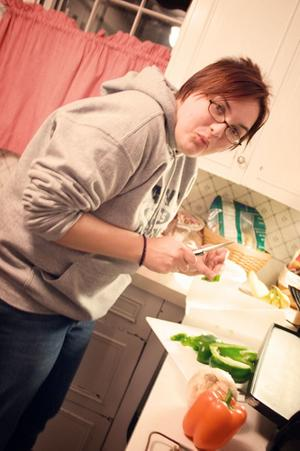person: (1, 55, 268, 451)
